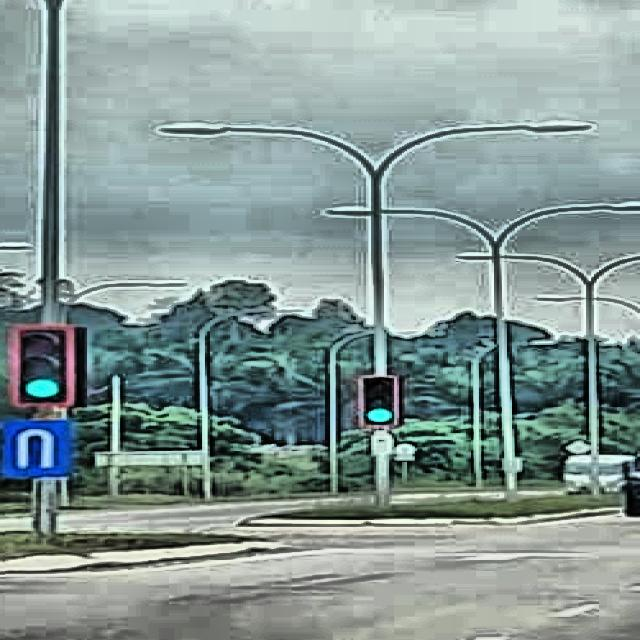green: (15, 323, 77, 404), (358, 375, 402, 429)
